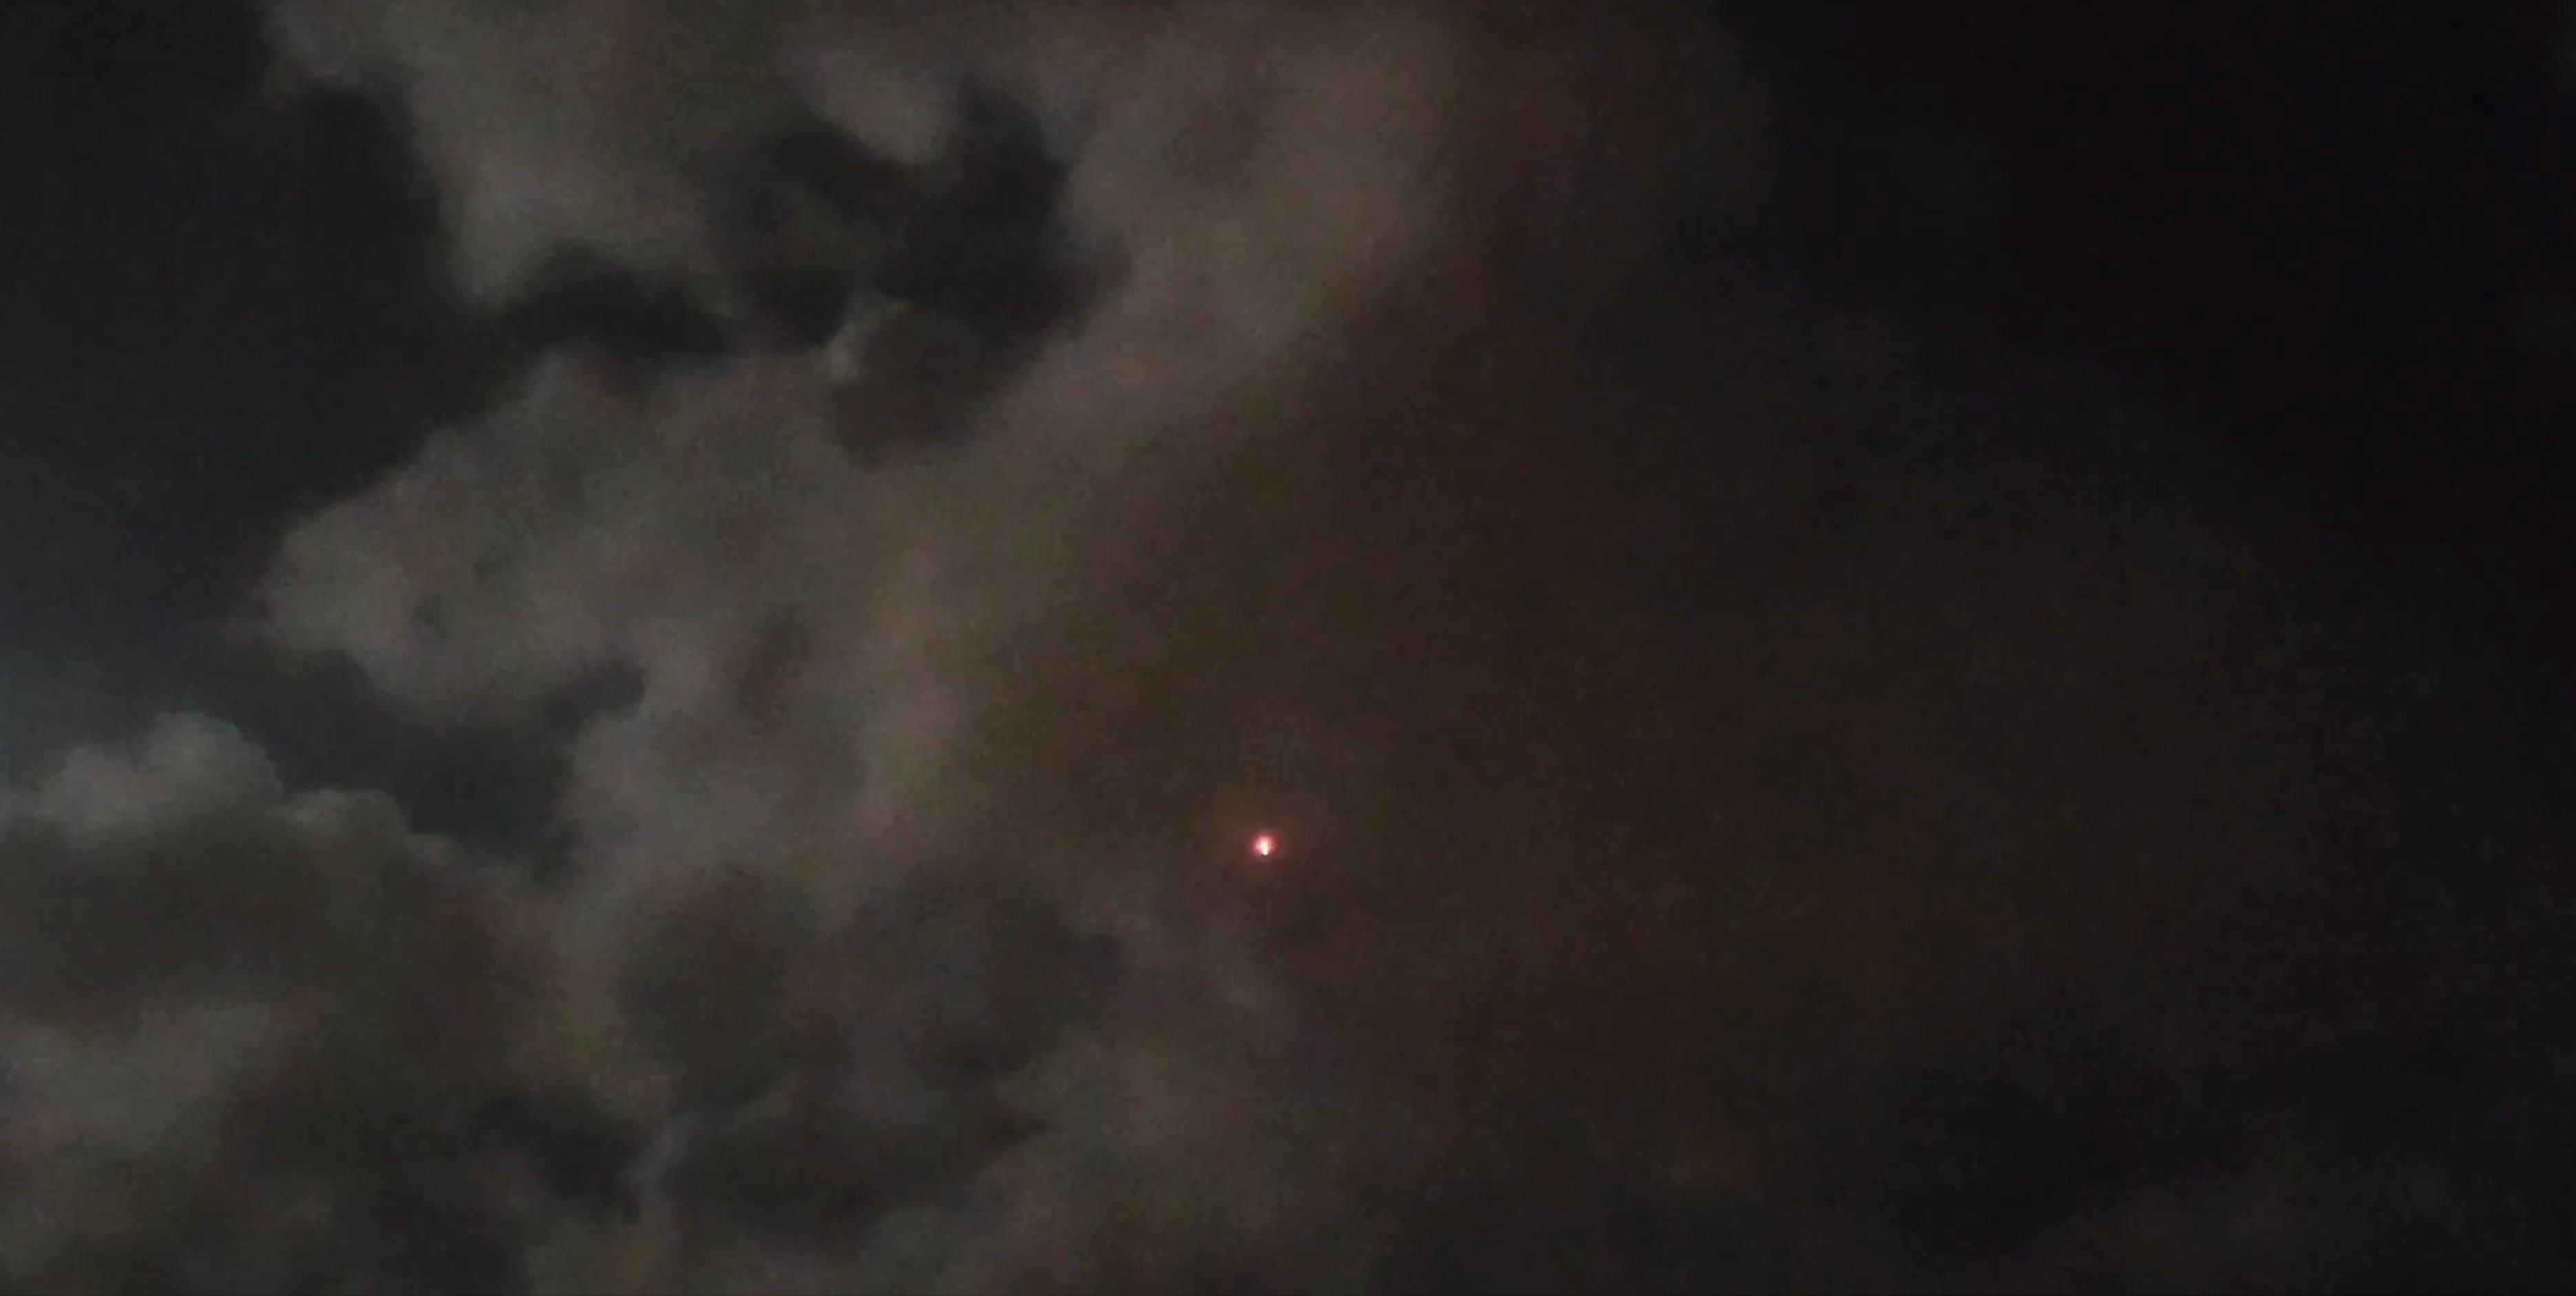Plane: (1236, 815, 1307, 879)
